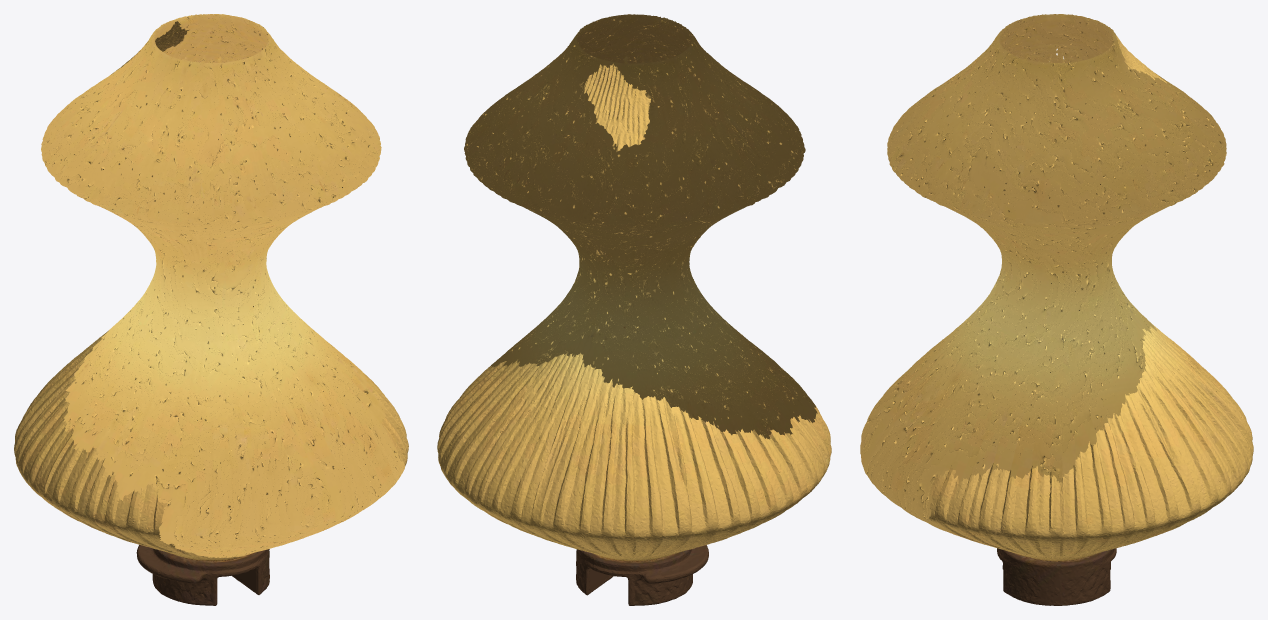
The model's file is lamp_model2_optimized.glb.
3 views of the same model, side by side, from view 1: azimuth 30°, elevation 25°; view 2: azimuth 150°, elevation 25°; view 3: azimuth 270°, elevation 25° (orthographic).
Parts seen in each view (by area): view 1: tripo_node_18eff02e-b0db-4d48-95c8-08a452737f05; view 2: tripo_node_18eff02e-b0db-4d48-95c8-08a452737f05; view 3: tripo_node_18eff02e-b0db-4d48-95c8-08a452737f05.
Boxes of the visible parts, x1=… form: tripo_node_18eff02e-b0db-4d48-95c8-08a452737f05: x1=14, y1=14, x2=408, y2=605; tripo_node_18eff02e-b0db-4d48-95c8-08a452737f05: x1=437, y1=14, x2=831, y2=605; tripo_node_18eff02e-b0db-4d48-95c8-08a452737f05: x1=860, y1=14, x2=1253, y2=605.
Size of the model in its own units: 0.6566 by 1 by 0.6566.
1 material, 1 textured.
